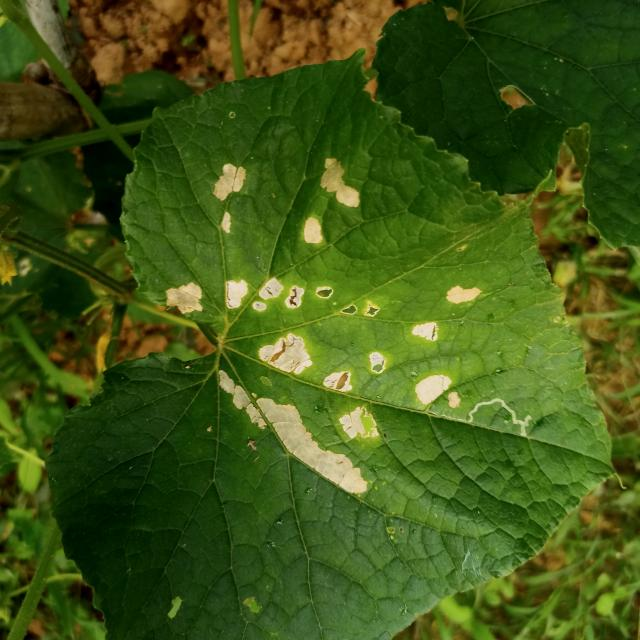disease_cucumber: (215, 329, 390, 497), (163, 264, 386, 329), (408, 284, 482, 408), (296, 151, 364, 248), (209, 151, 252, 236)
